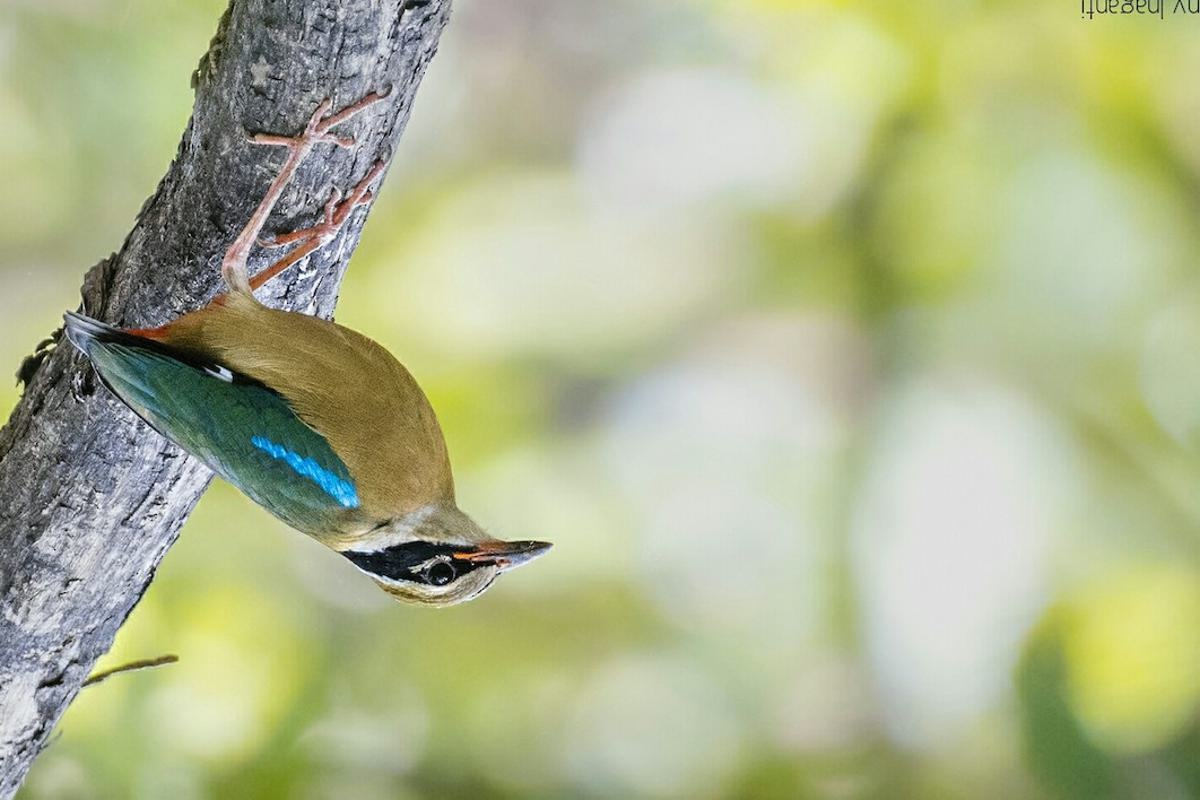pitta: (1, 193, 549, 615)
